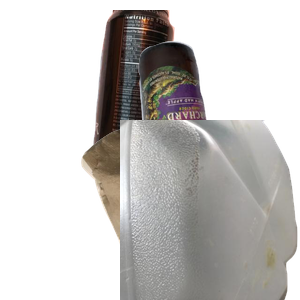glass: (136, 39, 300, 219)
metal: (91, 10, 258, 188)
plastic: (120, 120, 300, 300)
trash: (79, 123, 281, 300)
